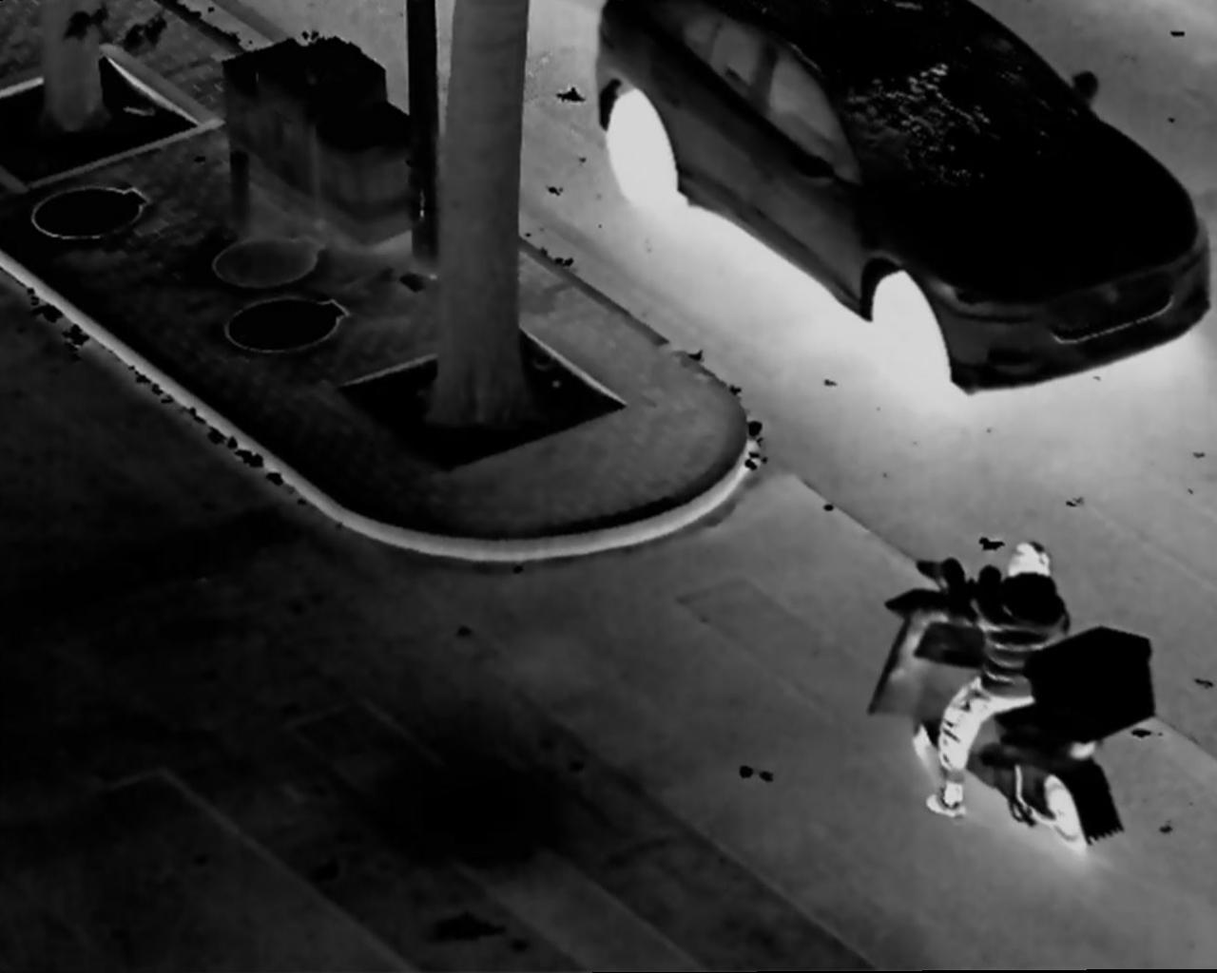person: (924, 541, 1088, 832)
